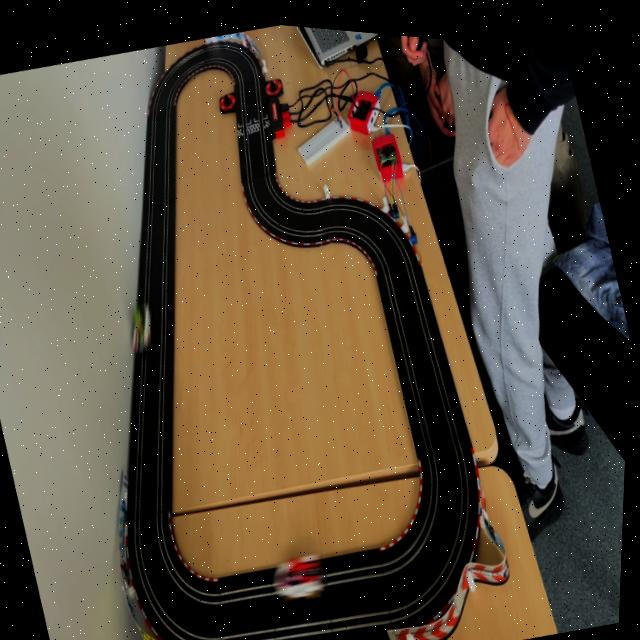mario: (269, 543, 337, 603)
yoshi: (125, 293, 168, 354)
